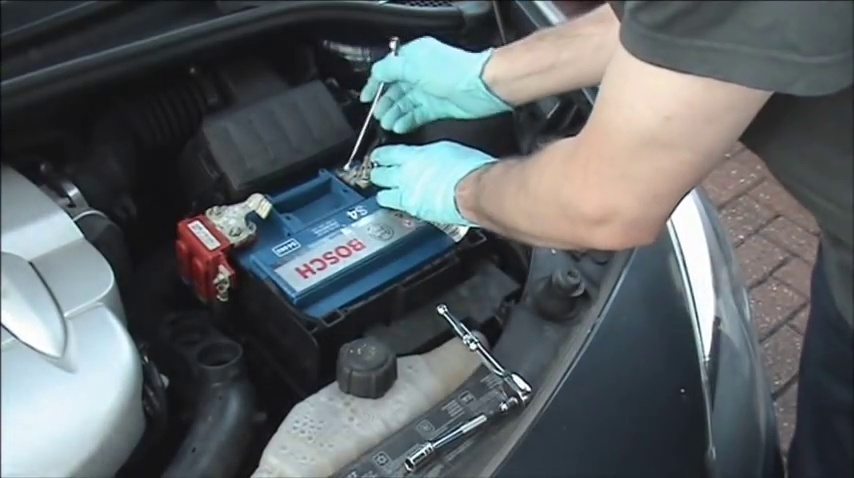battery: (168, 152, 454, 329)
neg_connected: (350, 80, 419, 224)
pos_connected: (188, 185, 266, 295)
